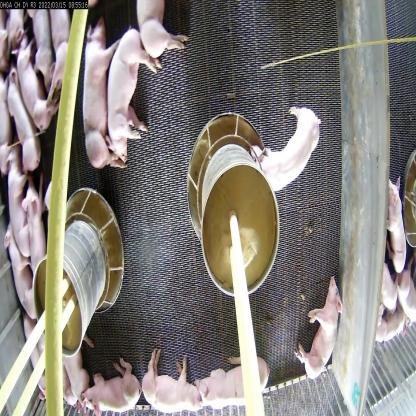Pig: (252, 99, 318, 200), (111, 22, 155, 167), (80, 27, 120, 176), (292, 274, 338, 384), (136, 362, 210, 415), (83, 359, 150, 415), (198, 356, 271, 407), (16, 37, 52, 135), (9, 65, 42, 171), (22, 196, 54, 294), (139, 0, 178, 67), (5, 140, 29, 247), (6, 235, 32, 329), (50, 7, 76, 94)
